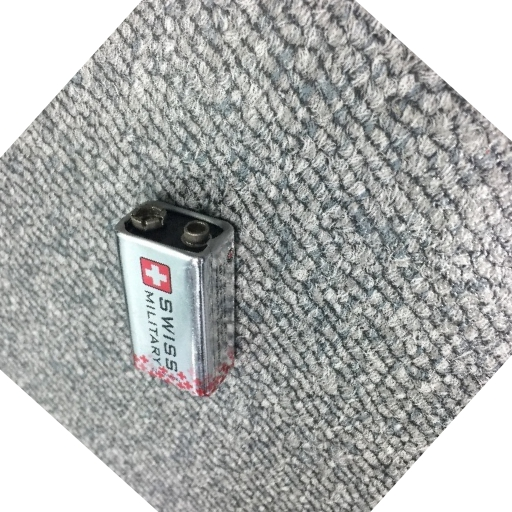Battery_3: (105, 190, 243, 409)
